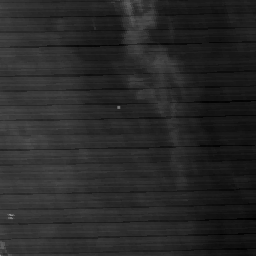Target: (115, 104, 122, 111)
